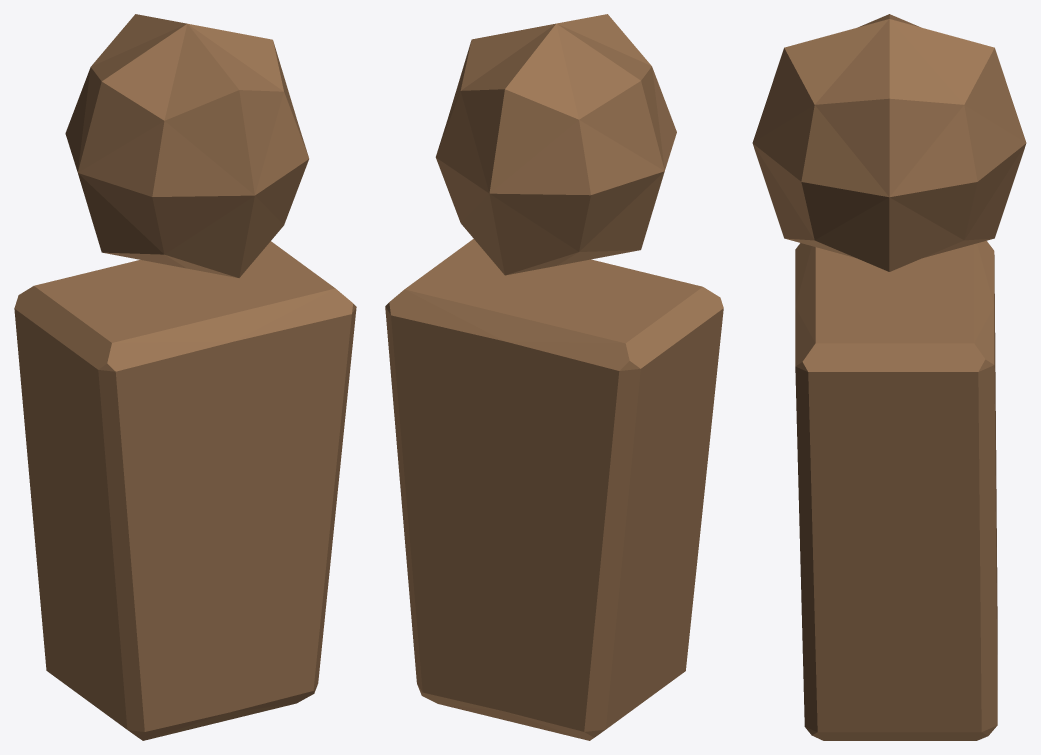
Rendered from base_char.dae.
3 renders of one model, left to right at view 1: azimuth 30°, elevation 25°; view 2: azimuth 150°, elevation 25°; view 3: azimuth 270°, elevation 25°, orthographic. The views are drawn at different scales.
Parts seen in each view (by area): view 1: Character; view 2: Character; view 3: Character.
Part boxes in pixels (box(x1,y1,x2,y2)): Character: box(14, 14, 356, 740); Character: box(385, 14, 723, 740); Character: box(752, 14, 1026, 740).
Size of the model in its own units: 1.65 by 1.5 by 4.13.
1 material, 1 textured.
